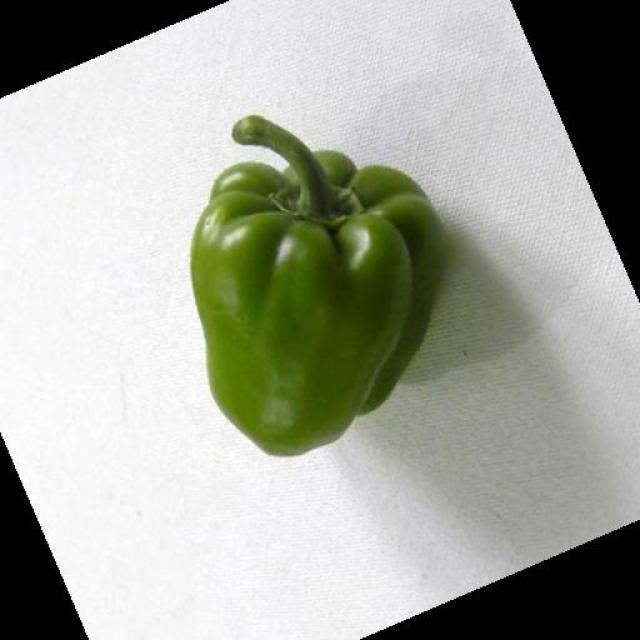Fresh_Capsicum: (155, 90, 463, 472)
